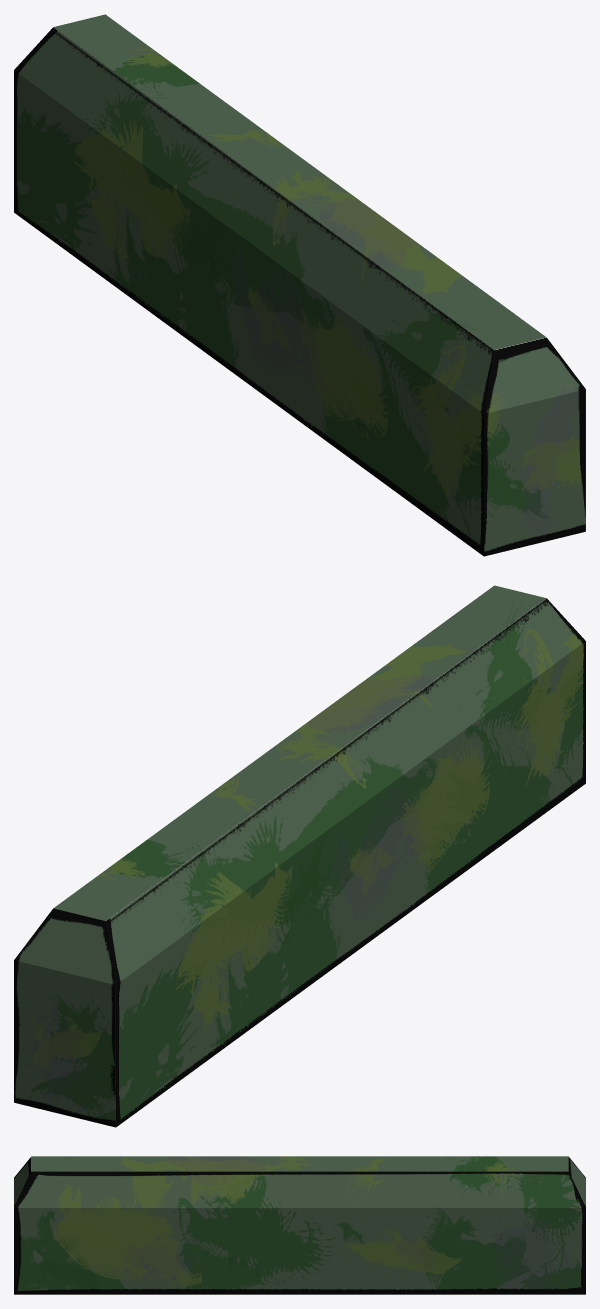
File: 1-WindowCanopy.fbx
3 renders of one model, top to bottom at view 1: azimuth 30°, elevation 25°; view 2: azimuth 150°, elevation 25°; view 3: azimuth 270°, elevation 25°, orthographic. The views are drawn at different scales.
Parts seen in each view (by area): view 1: Cube.004; view 2: Cube.004; view 3: Cube.004.
Part boxes in pixels (box(x1,y1,x2,y2)): Cube.004: box(14, 14, 585, 556); Cube.004: box(14, 585, 585, 1127); Cube.004: box(14, 1156, 585, 1294).
Size of the model in its own units: 34.3 by 61 by 274.
Materials: 1 (1 with a texture image).
